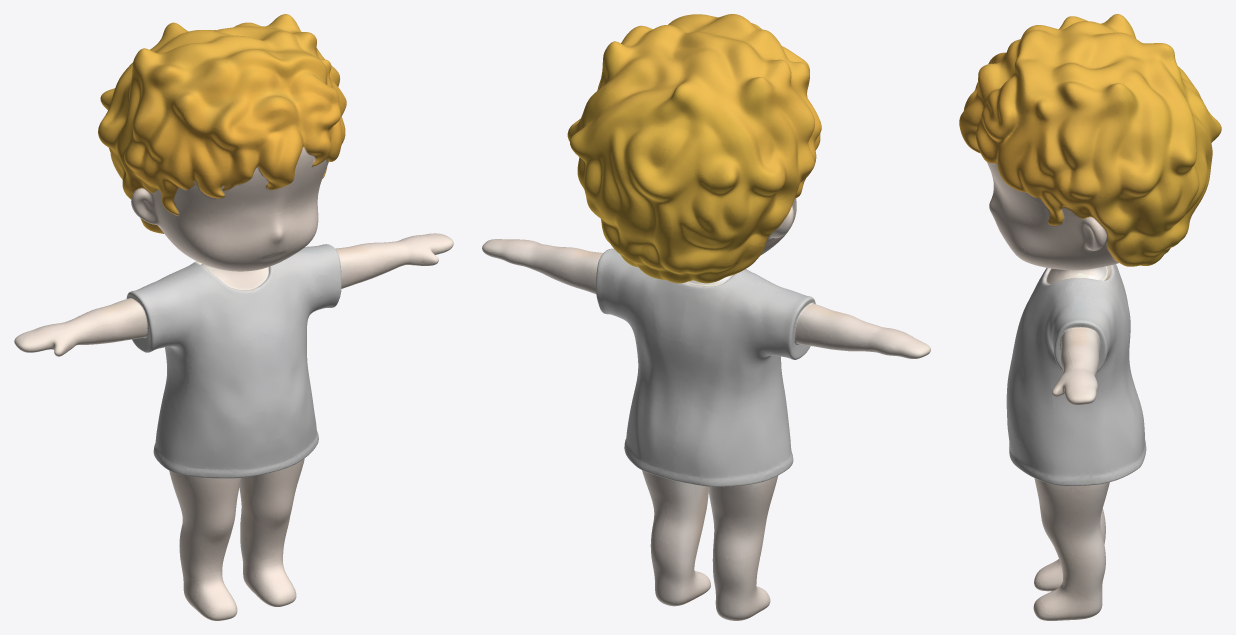
Rendered from baked_nhair_blonde.glb.
3 views of the same model, side by side, from view 1: azimuth 30°, elevation 25°; view 2: azimuth 150°, elevation 25°; view 3: azimuth 270°, elevation 25° (orthographic). The views are drawn at different scales.
Bounding box in the file's own units: 1.52 × 1.9 × 0.7976.
Materials: 1 (1 with a texture image).
